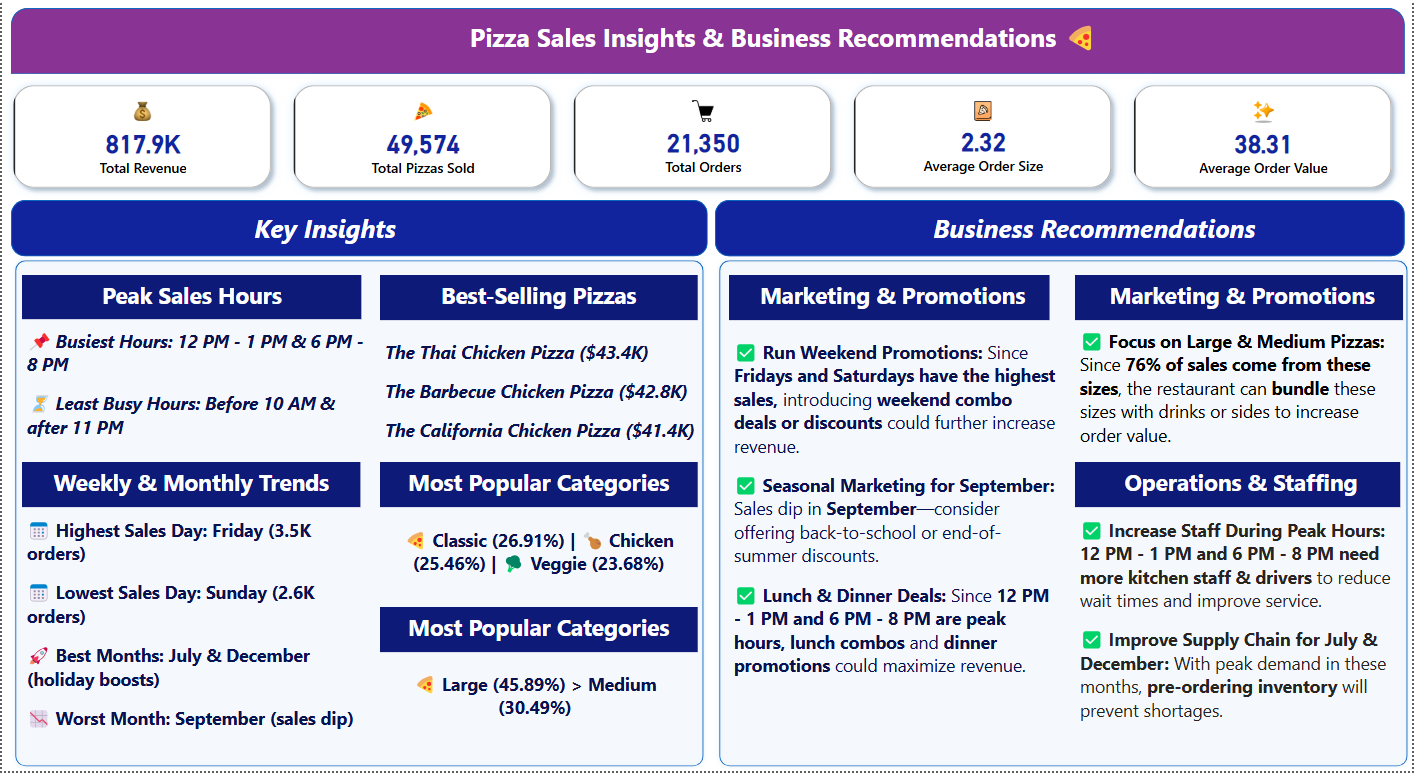

What the dashboard file says about the page in this screenshot:
{"tool":"powerbi","page":{"name":"Page 2","canvas":[1500,820],"ordinal":1},"visuals":[{"type":"shape","box":[9.9,8.6,1482.7,70.4],"z":0},{"type":"textbox","box":[484,16,695.1,55.6],"z":1000},{"type":"cardVisual","fields":{"Data":["pizza_sales.Total Revenue","pizza_sales.Total Pizzas Sold","pizza_sales.Total Orders","pizza_sales.Average Order Size","pizza_sales.AOV"]},"box":[0,78.8,1492.5,133.8],"z":4000},{"type":"shape","box":[10,272.5,741.2,547.5],"z":5000},{"type":"textbox","box":[21.2,345,372.5,146.2],"z":6000},{"type":"textbox","box":[21.2,546.2,372.5,266.2],"z":7000},{"type":"textbox","box":[21.2,292.5,361.2,47],"z":8000},{"type":"textbox","box":[21.2,491.2,360,47.5],"z":9000},{"type":"textbox","box":[402.5,292.5,337.5,47.5],"z":10000},{"type":"textbox","box":[402.5,356.2,347.5,147.5],"z":11000},{"type":"shape","box":[10,212.5,741.2,60],"z":12000},{"type":"shape","box":[758.8,212.5,733.8,60],"z":13000},{"type":"shape","box":[758.8,272.5,741.2,547.5],"z":14000},{"type":"textbox","box":[402.5,491.2,337.5,47.5],"z":15000},{"type":"textbox","box":[402.5,556.2,337.5,66.2],"z":16000},{"type":"textbox","box":[402.5,646.2,337.5,47.5],"z":17000},{"type":"textbox","box":[393.8,710,346.2,83.8],"z":18000},{"type":"textbox","box":[228.8,218.8,230,46.2],"z":19000},{"type":"textbox","box":[955,218.8,413.8,46.2],"z":20000},{"type":"textbox","box":[773.8,292.5,341.2,47.5],"z":21000},{"type":"textbox","box":[773.8,356.2,356.2,431.2],"z":22000},{"type":"textbox","box":[1141.2,292.5,349,47.5],"z":23000},{"type":"textbox","box":[1141.2,345,345,170],"z":24000},{"type":"textbox","box":[1141.2,491.2,346.2,47.5],"z":25000},{"type":"textbox","box":[1141.2,546.2,345,266.2],"z":26000}]}

Visuals, with their boxes in screenshot pixels (x1, y1, x2, y2), scaled from the page's 1500x820 canvas onto the 1414x774 screenshot:
shape: box=[9, 8, 1407, 75]
textbox: box=[456, 15, 1111, 68]
cardVisual - pizza_sales.Total Revenue x pizza_sales.Total Pizzas Sold: box=[0, 74, 1407, 201]
shape: box=[9, 257, 708, 773]
textbox: box=[20, 326, 371, 464]
textbox: box=[20, 516, 371, 767]
textbox: box=[20, 276, 360, 320]
textbox: box=[20, 464, 359, 508]
textbox: box=[379, 276, 698, 321]
textbox: box=[379, 336, 707, 475]
shape: box=[9, 201, 708, 257]
shape: box=[715, 201, 1407, 257]
shape: box=[715, 257, 1413, 773]
textbox: box=[379, 464, 698, 508]
textbox: box=[379, 525, 698, 587]
textbox: box=[379, 610, 698, 655]
textbox: box=[371, 670, 698, 749]
textbox: box=[216, 207, 432, 250]
textbox: box=[900, 207, 1290, 250]
textbox: box=[729, 276, 1051, 321]
textbox: box=[729, 336, 1065, 743]
textbox: box=[1076, 276, 1405, 321]
textbox: box=[1076, 326, 1401, 486]
textbox: box=[1076, 464, 1402, 508]
textbox: box=[1076, 516, 1401, 767]
